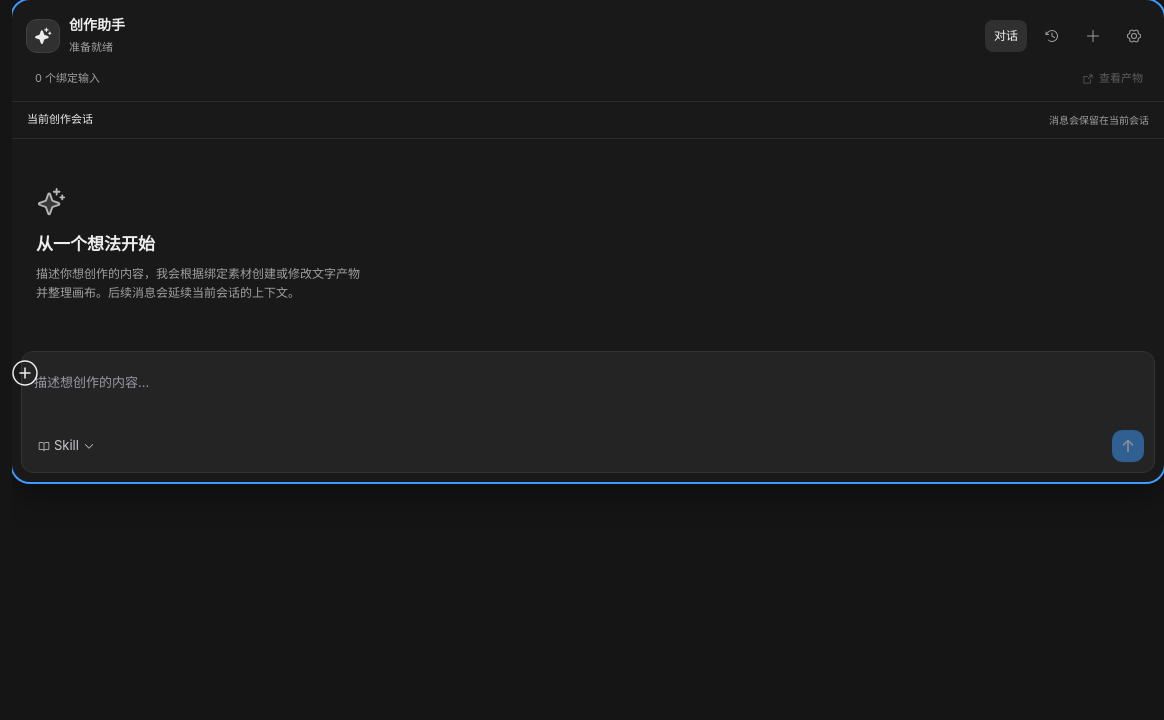
Test: AgentChatCard › preserves the draft and blocks creation for missing model
This screenshot has width=1164, height=720.
Step 1. Type "规划三个镜头，生成之前先给我检查。" into the text box named "本次任务" → {"x": 588, "y": 393}, box [32,362,1144,424]
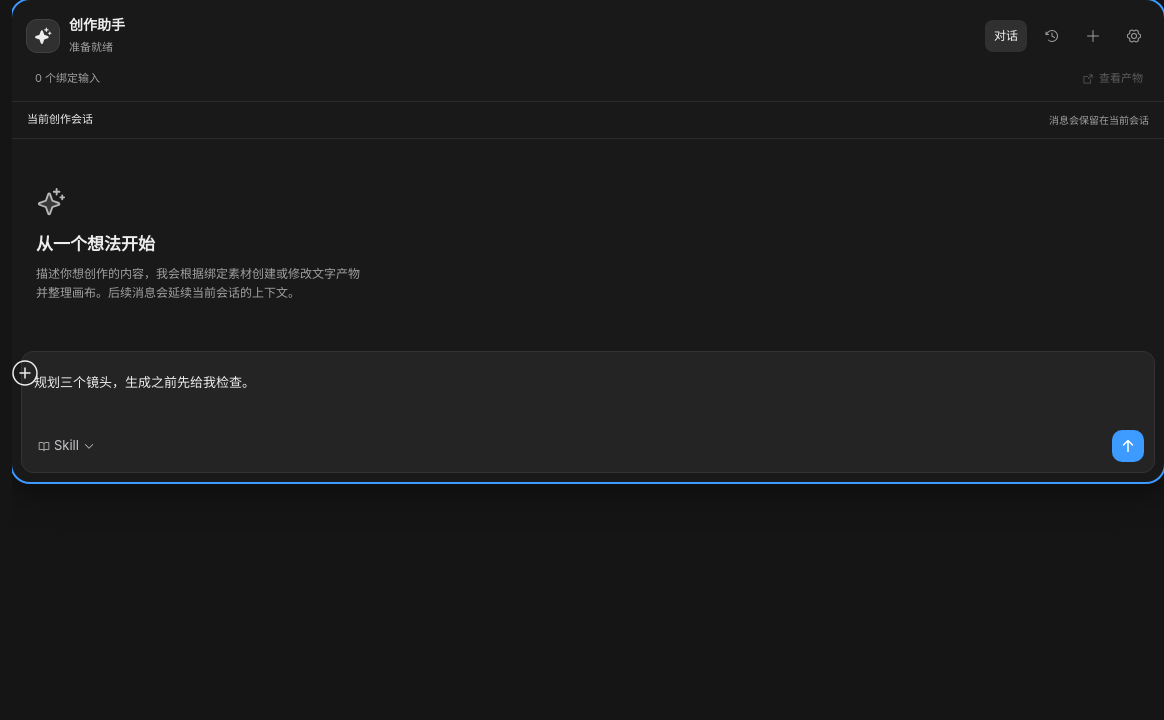
Step 2. Click the button named "发送" → {"x": 1128, "y": 446}, box [1112,430,1144,462]
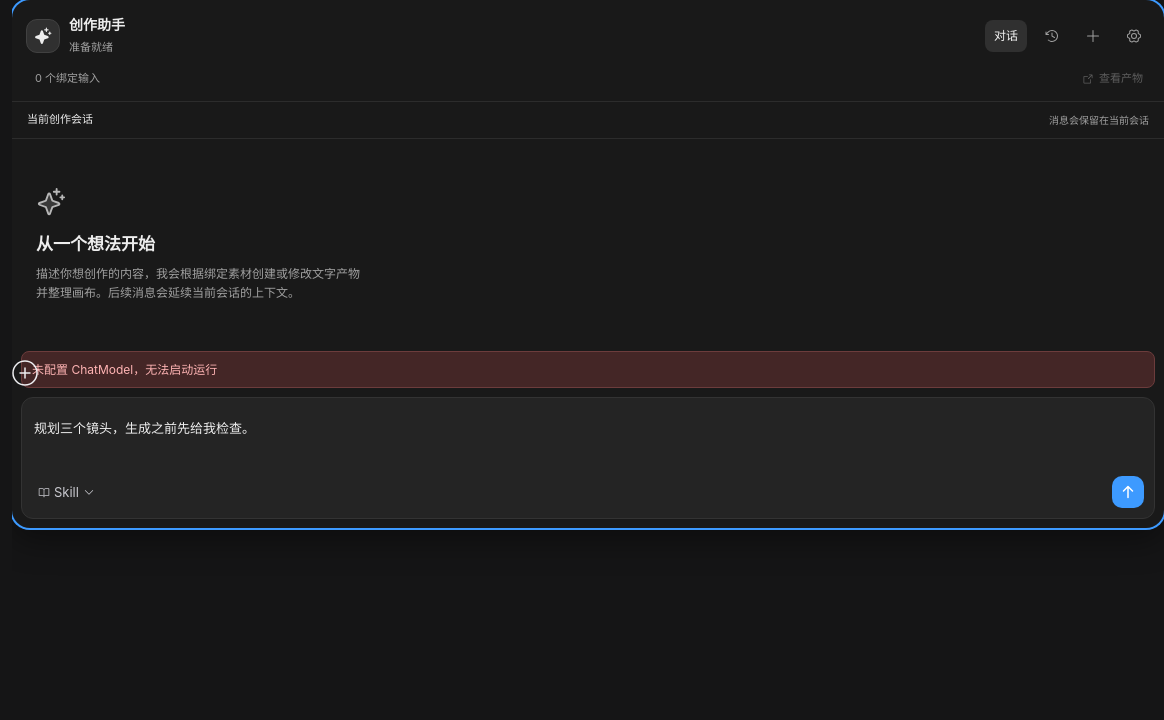
Now the message reads "未配置 ChatModel，无法启动运行", box [32,362,217,377]
